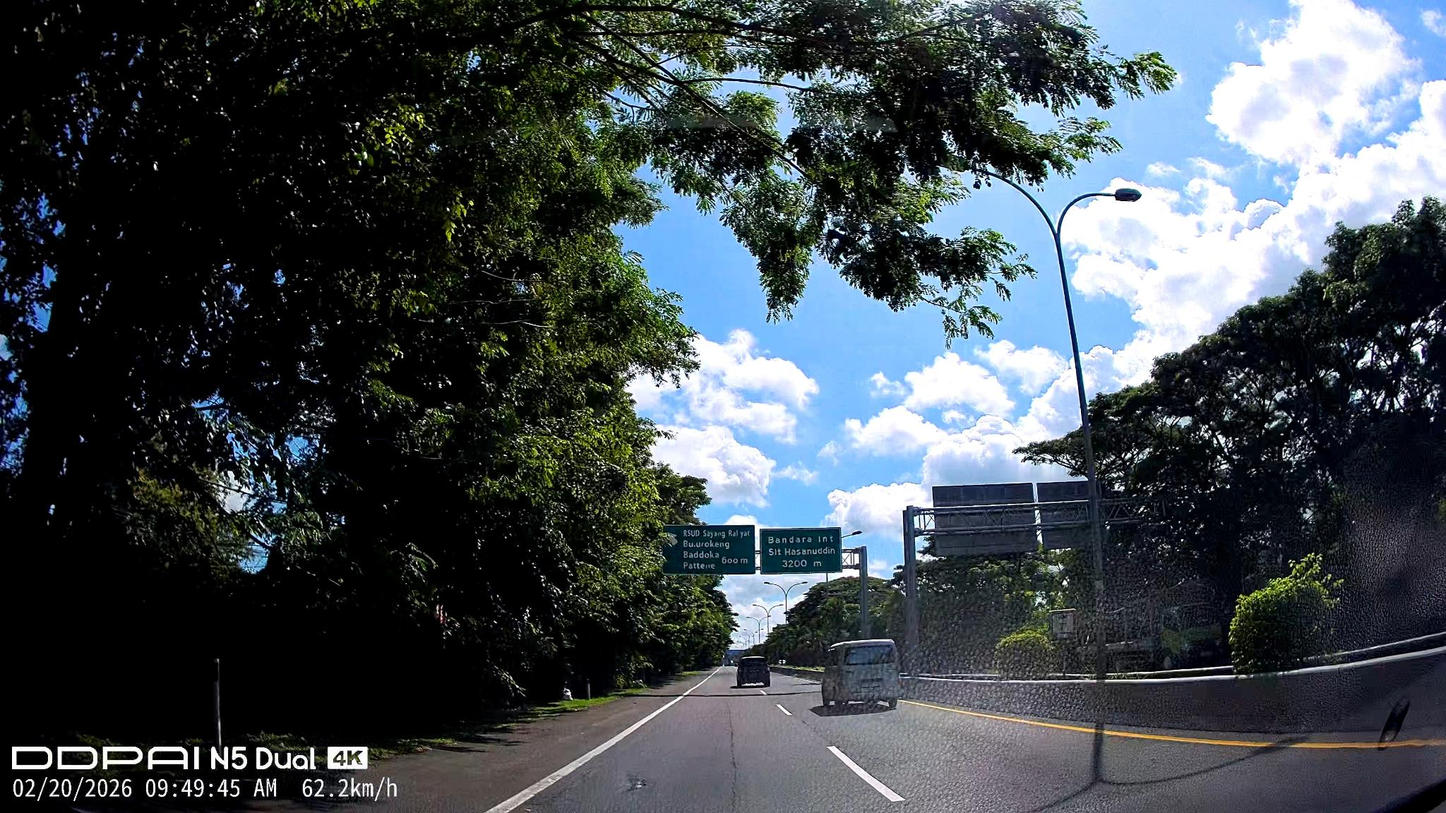rambu_teks: (664, 524, 756, 575), (760, 527, 843, 575)
